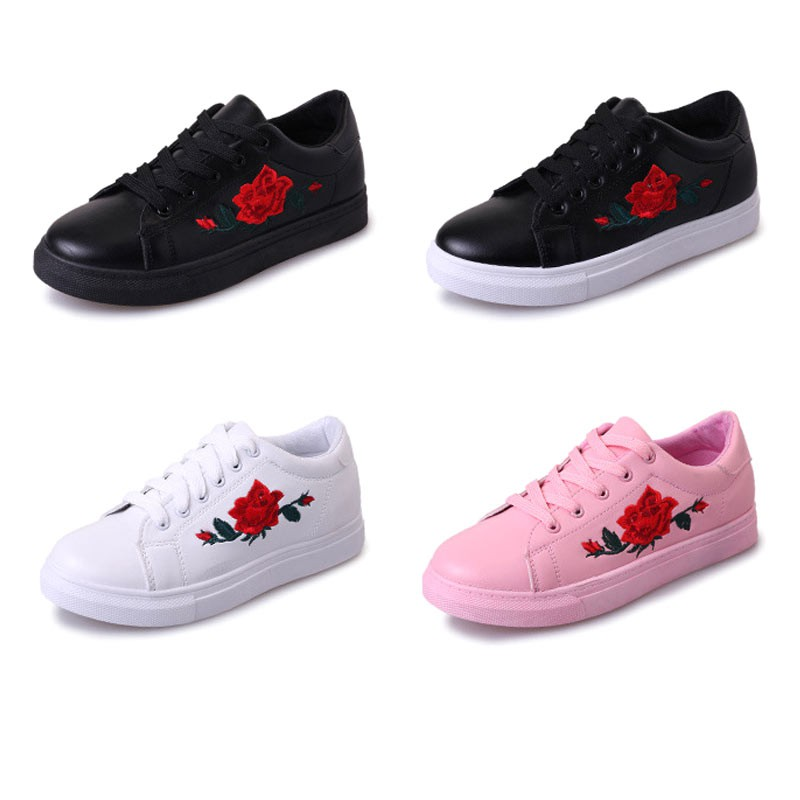shoe: (11, 72, 378, 311), (407, 73, 760, 317), (403, 400, 769, 635), (26, 405, 367, 652)
